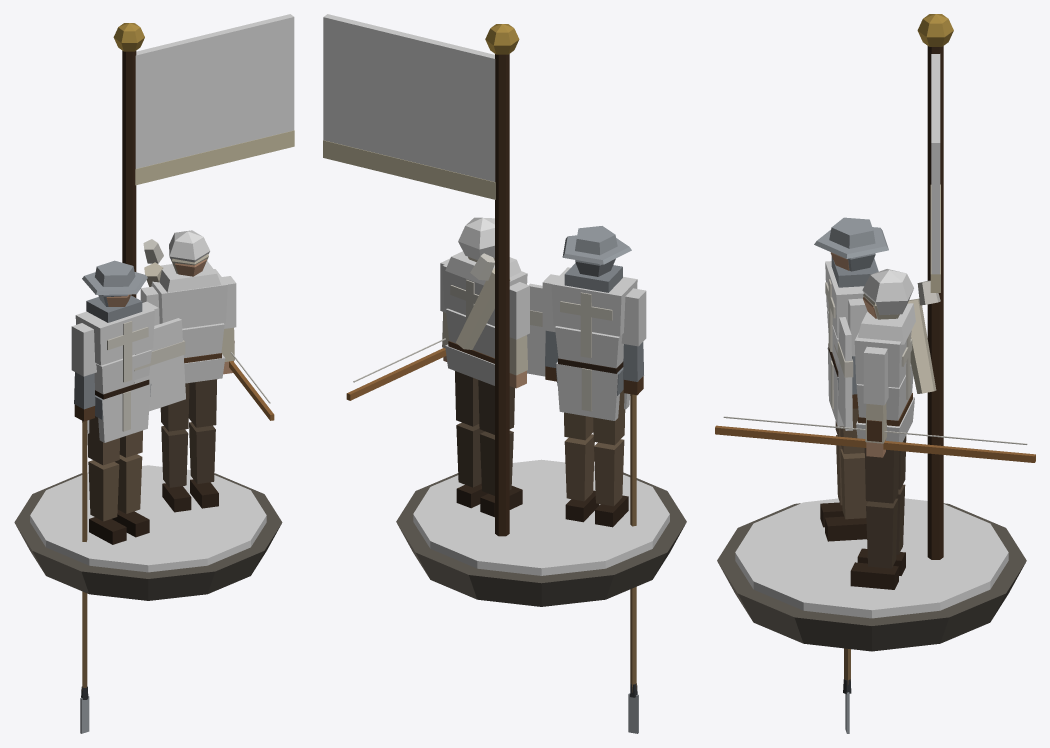
File: map_marker_medieval.glb
3 renders of one model, left to right at view 1: azimuth 30°, elevation 25°; view 2: azimuth 150°, elevation 25°; view 3: azimuth 270°, elevation 25°, orthographic. The views are drawn at different scales.
Parts seen in each view (by area): view 1: map_marker_medieval; view 2: map_marker_medieval; view 3: map_marker_medieval.
Part boxes in pixels (x1=…): map_marker_medieval: x1=14, y1=14, x2=294, y2=733; map_marker_medieval: x1=323, y1=14, x2=686, y2=733; map_marker_medieval: x1=715, y1=14, x2=1035, y2=733.
Bounding box in the file's own units: 1.69 × 3.7 × 1.41.
